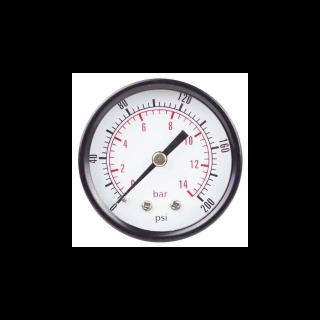gauge: (71, 73, 248, 247), (194, 191, 210, 209), (109, 193, 125, 211), (152, 150, 168, 166), (114, 197, 122, 205)
